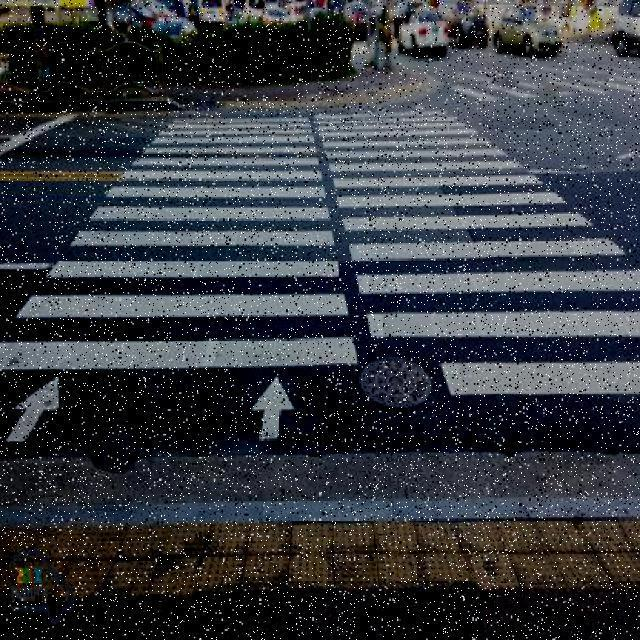Pedestrian crosswalk: (2, 103, 640, 404), (451, 60, 640, 104)
